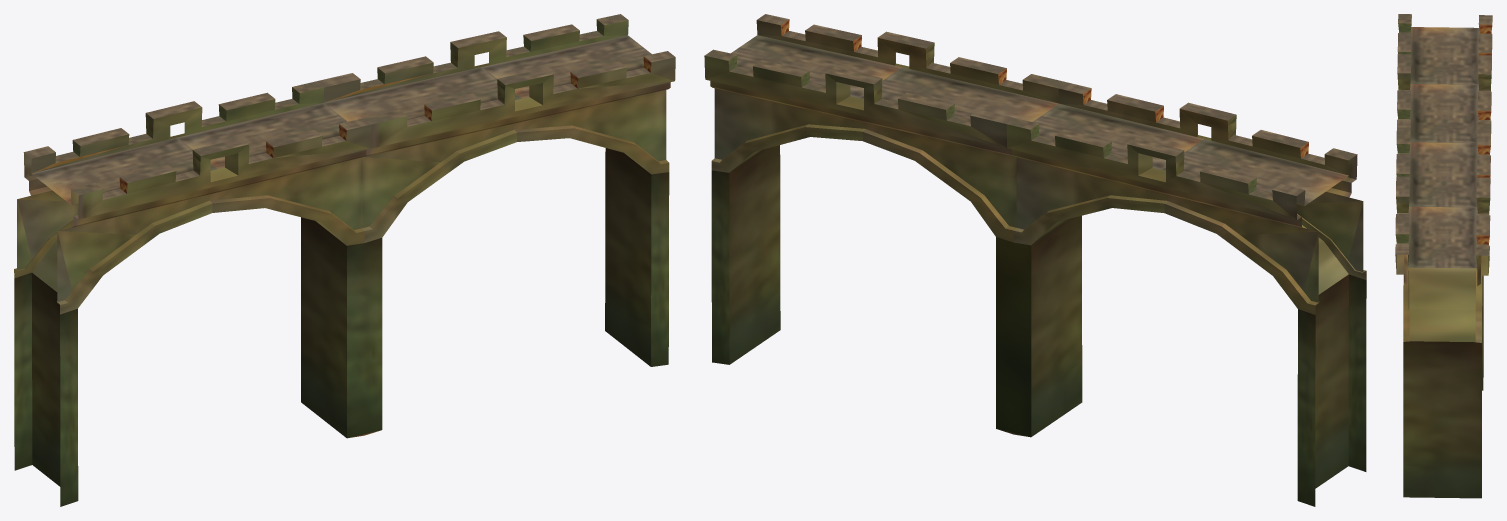
The model's file is Bridge02.FBX.
3 renders of one model, left to right at view 1: azimuth 30°, elevation 25°; view 2: azimuth 150°, elevation 25°; view 3: azimuth 270°, elevation 25°, orthographic. The views are drawn at different scales.
Visible parts, largest first — view 1: Bridge02; view 2: Bridge02; view 3: Bridge02.
Boxes of the visible parts, box(x1,y1,x2,y2) form: Bridge02: box(14, 14, 675, 506); Bridge02: box(704, 14, 1366, 506); Bridge02: box(1395, 14, 1492, 498).
Bounding box in the file's own units: 1888 × 961 × 319.
